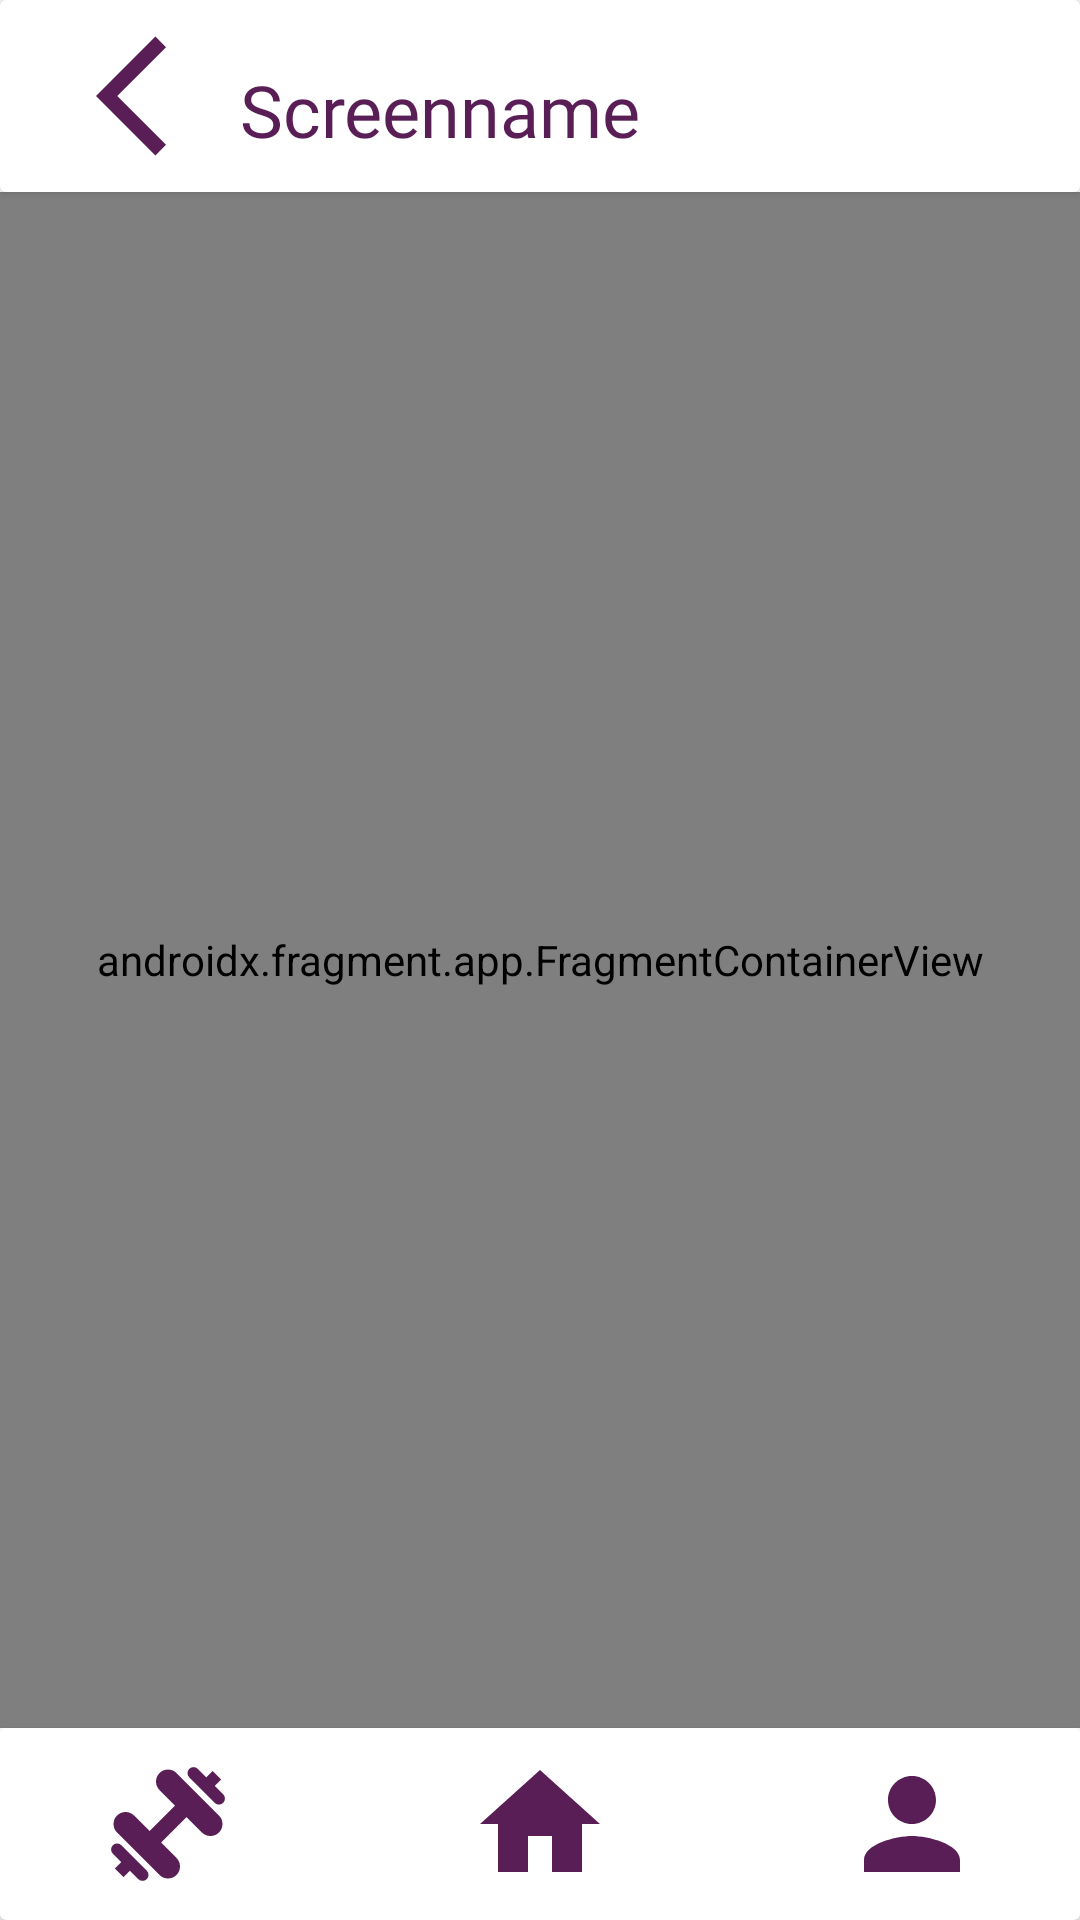

Where to tap for icons on this 1080 × 1920 app screen, as (x,y):
back: (131,96)
home: (540,1821)
profile: (912,1824)
training: (168,1824)
